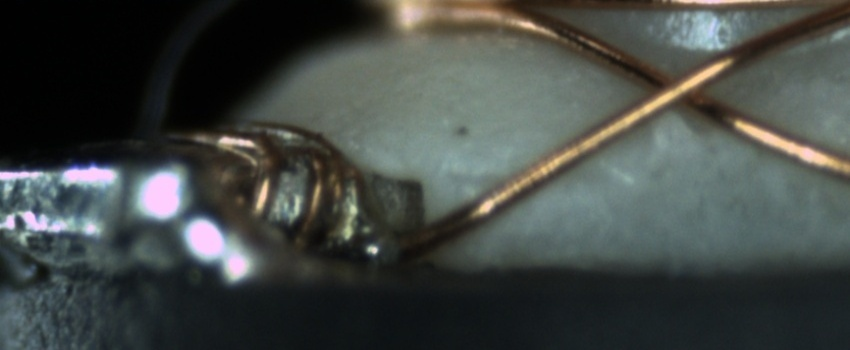CL: (626, 51, 734, 123)
DL: (463, 153, 620, 207)
TE: (170, 114, 367, 247)
